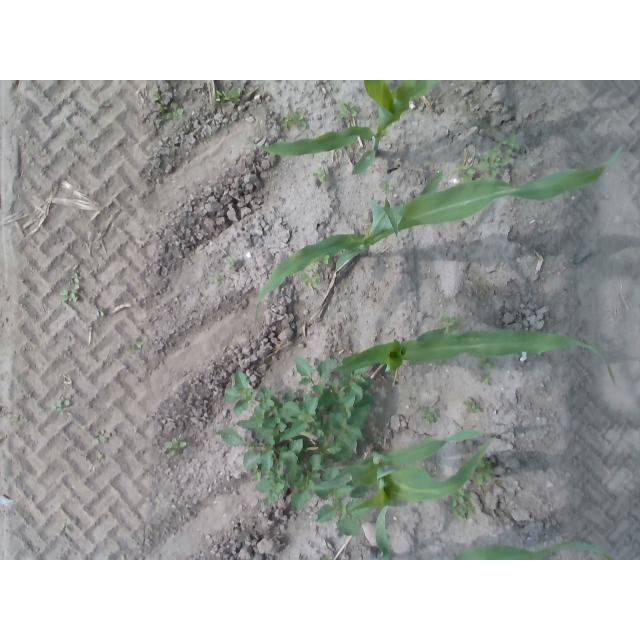Maize: (254, 146, 622, 327), (246, 80, 443, 176), (331, 327, 617, 389), (312, 429, 500, 512), (453, 542, 614, 560), (377, 504, 395, 560)
Weeds: (213, 352, 375, 538), (477, 145, 511, 179), (154, 89, 185, 119), (58, 269, 82, 306), (452, 490, 479, 522), (280, 110, 308, 132), (216, 88, 244, 108), (474, 459, 494, 485), (50, 398, 74, 419), (162, 437, 188, 456), (418, 402, 439, 425), (338, 100, 359, 120), (499, 133, 519, 154), (124, 334, 145, 354), (440, 312, 461, 332), (453, 163, 474, 182), (300, 272, 323, 289), (475, 356, 501, 371), (378, 178, 399, 196), (312, 165, 332, 183), (462, 397, 483, 414), (207, 274, 226, 287), (90, 431, 106, 446), (474, 375, 494, 386), (97, 305, 112, 319), (370, 432, 385, 445), (319, 255, 331, 271), (226, 255, 239, 269), (6, 412, 21, 422), (94, 451, 105, 462), (320, 556, 331, 561), (309, 268, 316, 273)
